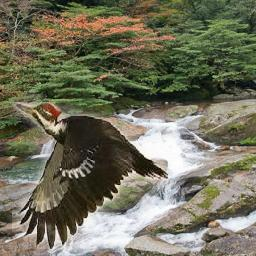Woodpecker: (12, 103, 168, 250)
